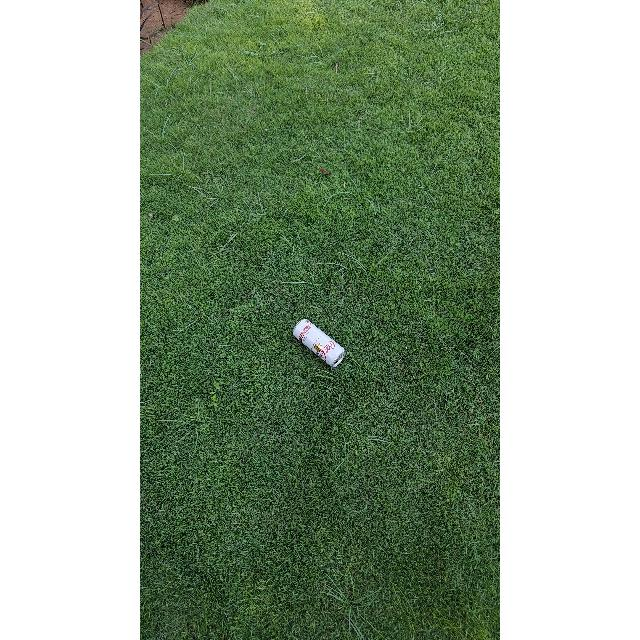Coca Cola Plus: (290, 310, 352, 376)
